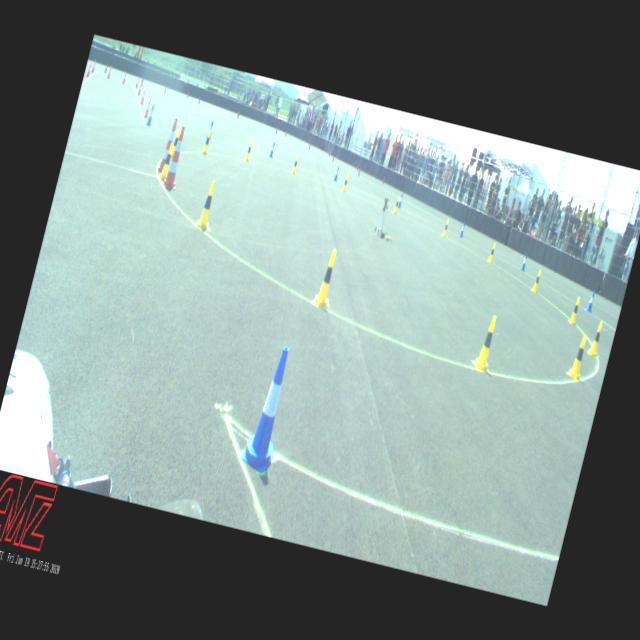blue_cone: (238, 341, 300, 472), (585, 290, 596, 312), (145, 104, 156, 126), (206, 119, 216, 140), (518, 252, 528, 272), (458, 220, 466, 238), (268, 140, 276, 158), (332, 165, 340, 182), (397, 192, 404, 208)
large_orange_cone: (160, 124, 190, 190), (156, 116, 182, 174)
orange_cone: (142, 98, 152, 119), (139, 88, 147, 104), (84, 62, 92, 78), (136, 81, 143, 96), (121, 71, 128, 84), (134, 76, 140, 90), (90, 60, 96, 73), (106, 66, 112, 78)
yellow_cone: (312, 246, 342, 308), (472, 313, 502, 372), (194, 180, 220, 230), (566, 332, 590, 380), (586, 320, 606, 357), (157, 141, 175, 181), (169, 126, 183, 160), (567, 295, 581, 325), (200, 132, 212, 156), (530, 268, 542, 292), (243, 140, 254, 162), (486, 242, 496, 264), (290, 154, 300, 174), (340, 173, 350, 193), (441, 218, 450, 238), (392, 196, 400, 214)
